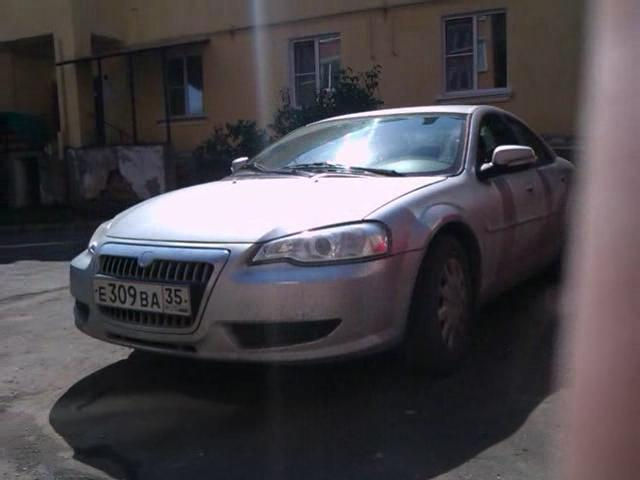car license plate: (90, 272, 196, 322)
